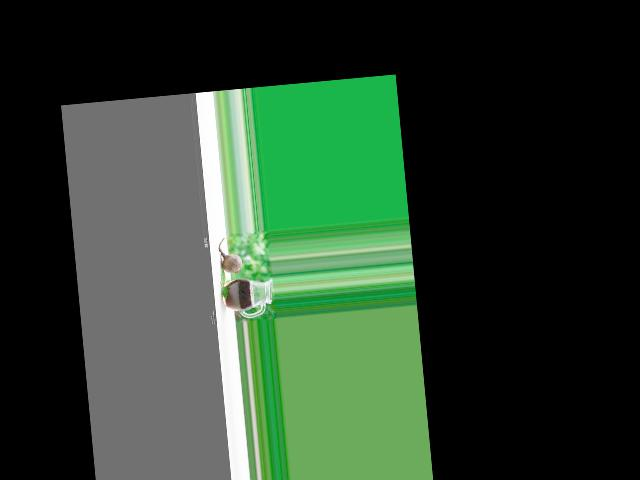beet: (217, 237, 242, 275)
